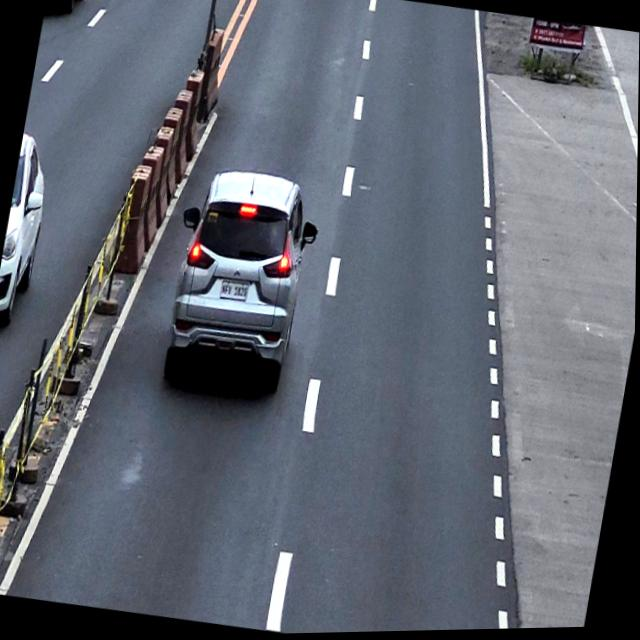Car: (155, 163, 329, 404), (0, 129, 59, 333), (44, 0, 91, 19)
License-Plate: (219, 280, 251, 305)
